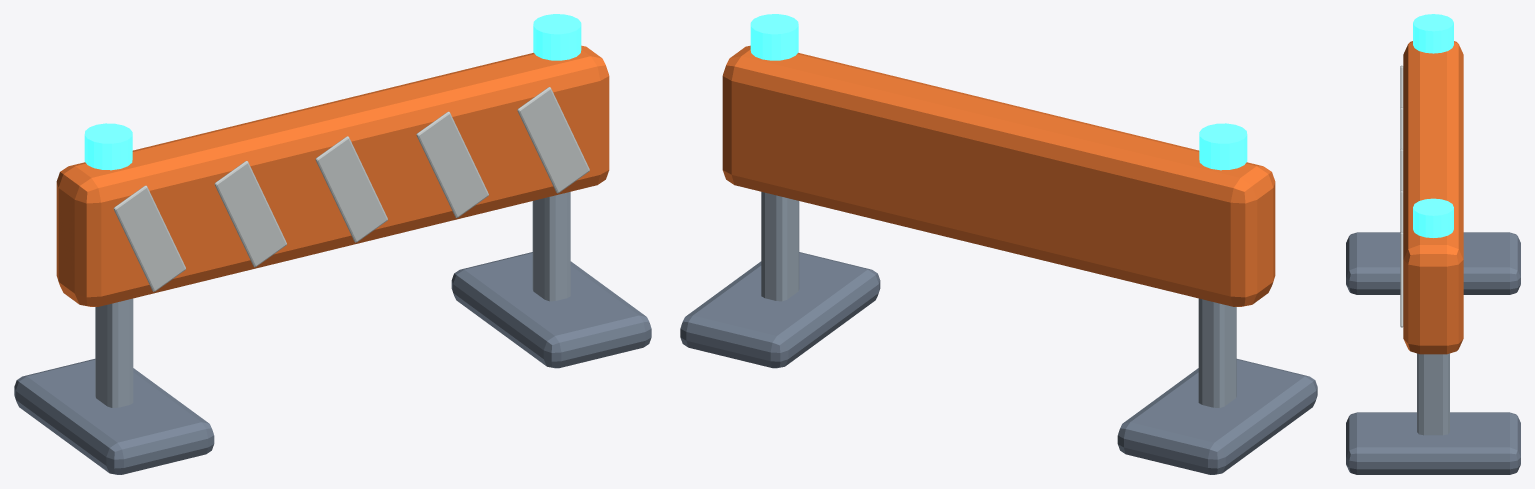
Rendered from neon-hurdle.glb.
3 views of the same model, side by side, from view 1: azimuth 30°, elevation 25°; view 2: azimuth 150°, elevation 25°; view 3: azimuth 270°, elevation 25° (orthographic). The views are drawn at different scales.
Parts seen in each view (by area): view 1: Rounded impact shell, Rubber stabilizer, Reflective chevron, Titanium upright, Warning beacon; view 2: Rounded impact shell, Rubber stabilizer, Titanium upright, Warning beacon; view 3: Rubber stabilizer, Rounded impact shell, Warning beacon, Titanium upright, Reflective chevron.
Part boxes in pixels (left/top/right/bottom): Rounded impact shell: left=56, top=45, right=609, bottom=306; Rubber stabilizer: left=14, top=252, right=651, bottom=474; Reflective chevron: left=113, top=87, right=589, bottom=291; Titanium upright: left=95, top=192, right=570, bottom=407; Warning beacon: left=84, top=14, right=581, bottom=170; Rounded impact shell: left=722, top=45, right=1275, bottom=306; Rubber stabilizer: left=680, top=252, right=1317, bottom=474; Titanium upright: left=761, top=192, right=1236, bottom=407; Warning beacon: left=750, top=14, right=1247, bottom=170; Rubber stabilizer: left=1346, top=232, right=1520, bottom=474; Rounded impact shell: left=1403, top=41, right=1463, bottom=354; Warning beacon: left=1413, top=14, right=1453, bottom=237; Titanium upright: left=1417, top=353, right=1449, bottom=435; Reflective chevron: left=1400, top=65, right=1403, bottom=327.
Size of the model in its own units: 1.94 by 1.02 by 0.64.
